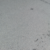others: (6, 1, 50, 48)
